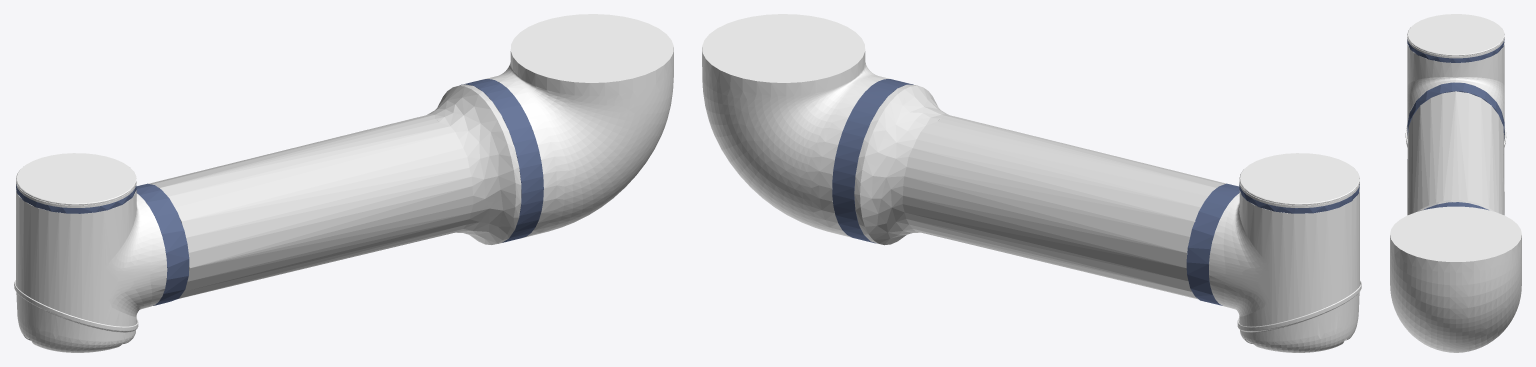
File: forearm.dae
3 views of the same model, side by side, from view 1: azimuth 30°, elevation 25°; view 2: azimuth 150°, elevation 25°; view 3: azimuth 270°, elevation 25° (orthographic). The views are drawn at different scales.
Visible parts, largest first — view 1: cs616_link3_part1, cs616_link3_part3, cs616_link3_part2; view 2: cs616_link3_part1, cs616_link3_part3, cs616_link3_part2; view 3: cs616_link3_part1, cs616_link3_part3, cs616_link3_part2.
Part boxes in pixels (x1,y1,x2,y2): cs616_link3_part1: [14, 14, 673, 352]; cs616_link3_part3: [148, 84, 521, 299]; cs616_link3_part2: [16, 79, 543, 305]; cs616_link3_part1: [702, 14, 1361, 352]; cs616_link3_part3: [854, 84, 1225, 299]; cs616_link3_part2: [832, 79, 1359, 305]; cs616_link3_part1: [1390, 14, 1521, 352]; cs616_link3_part3: [1407, 91, 1504, 215]; cs616_link3_part2: [1407, 39, 1504, 210].
Size of the model in its own units: 0.5339 by 0.118 by 0.1319.
